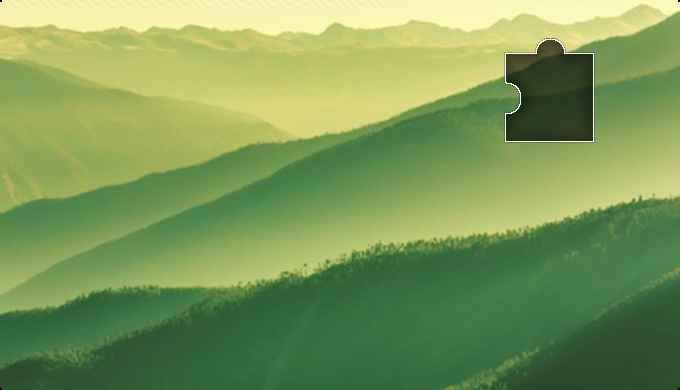gap: (506, 38, 594, 143)
